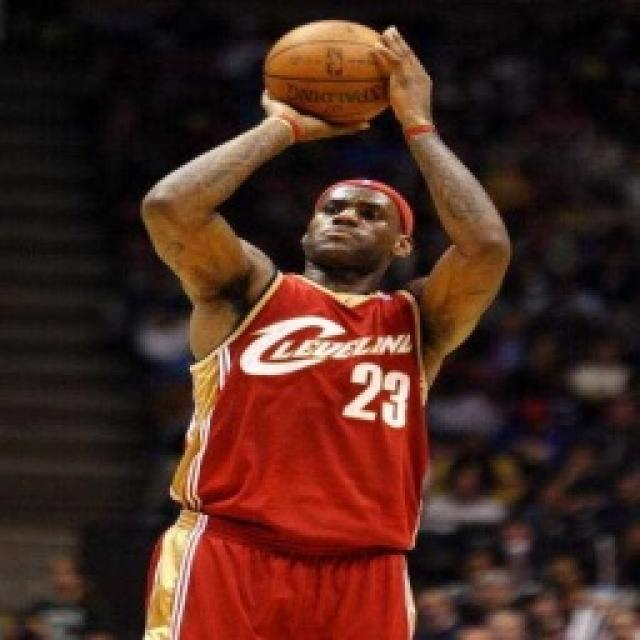rim: (256, 14, 414, 142)
